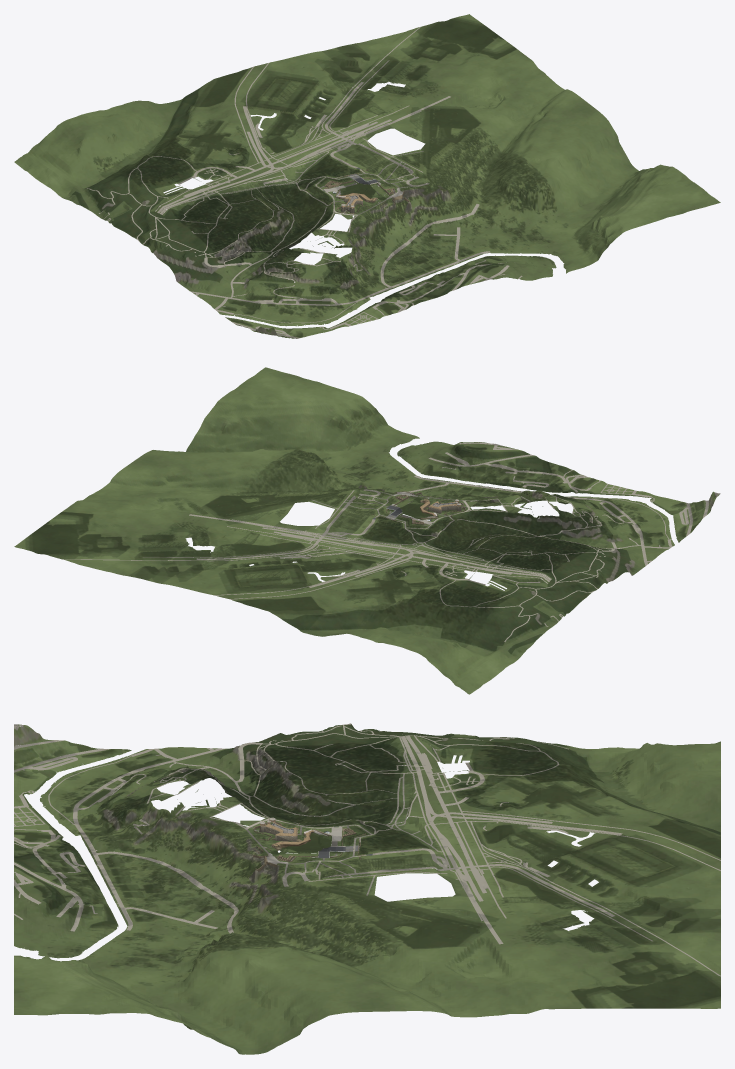
Rendered from authored-near.glb.
3 views of the same model, one above another, from view 1: azimuth 30°, elevation 25°; view 2: azimuth 150°, elevation 25°; view 3: azimuth 270°, elevation 25° (orthographic). The views are drawn at different scales.
Parts seen in each view (by area): view 1: R152_FORECOURT_0, R152_PATH_34122543, R325_NORTH_RUIN_CENTRAL_COURT; view 2: R152_FORECOURT_0, R152_PATH_34122543, R325_NORTH_RUIN_CENTRAL_COURT; view 3: R152_FORECOURT_0, R152_PATH_34122543, R325_NORTH_RUIN_CENTRAL_COURT, R325_NORTH_RUIN_RAISED_PLATFORM.
Part boxes in pixels (x1,y1,x2,y2): R152_FORECOURT_0: (14, 14, 720, 338); R152_PATH_34122543: (87, 27, 522, 338); R325_NORTH_RUIN_CENTRAL_COURT: (301, 163, 421, 220); R152_FORECOURT_0: (14, 367, 718, 694); R152_PATH_34122543: (63, 442, 720, 641); R325_NORTH_RUIN_CENTRAL_COURT: (357, 492, 476, 537); R152_FORECOURT_0: (14, 724, 720, 1054); R152_PATH_34122543: (14, 723, 720, 976); R325_NORTH_RUIN_CENTRAL_COURT: (240, 820, 372, 897); R325_NORTH_RUIN_RAISED_PLATFORM: (253, 822, 365, 871).
Bounding box in the file's own units: 1150 × 94.37 × 1100.
Materials: 45 (16 with a texture image).
